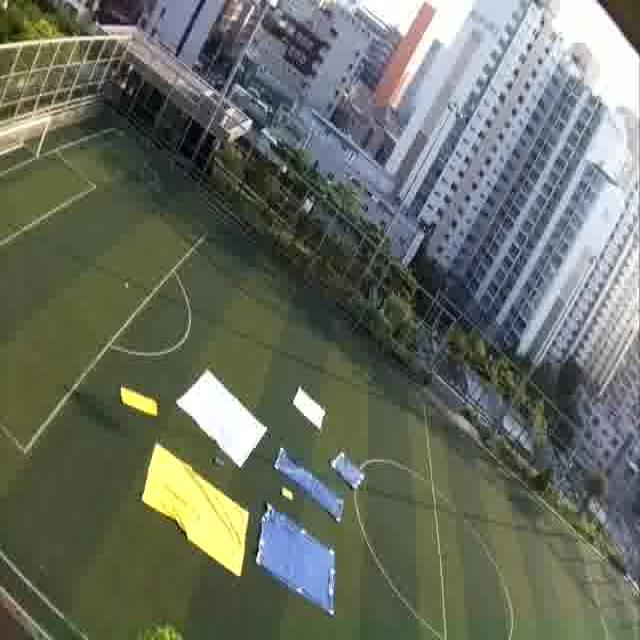danger: (262, 530, 334, 594), (274, 448, 314, 482), (334, 454, 366, 489)
safety: (188, 376, 260, 450), (294, 388, 330, 430)
warning: (148, 464, 224, 559), (121, 389, 163, 421)
